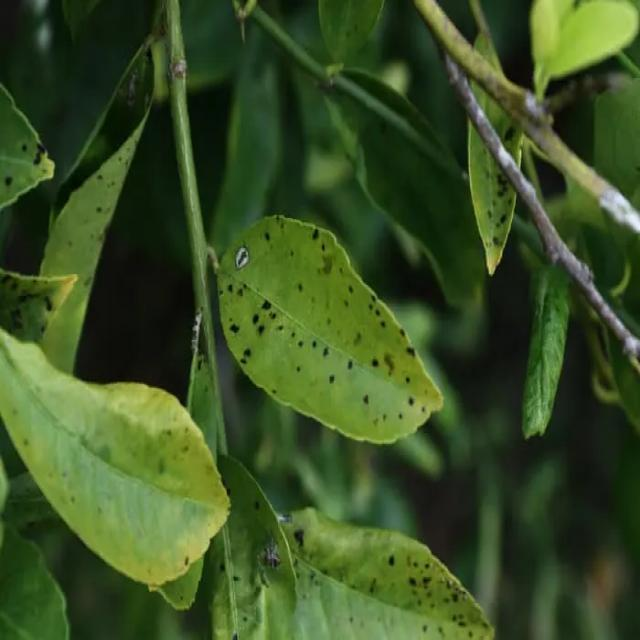Bacterial Spot: (215, 224, 452, 445), (225, 535, 493, 640), (464, 178, 518, 272)
